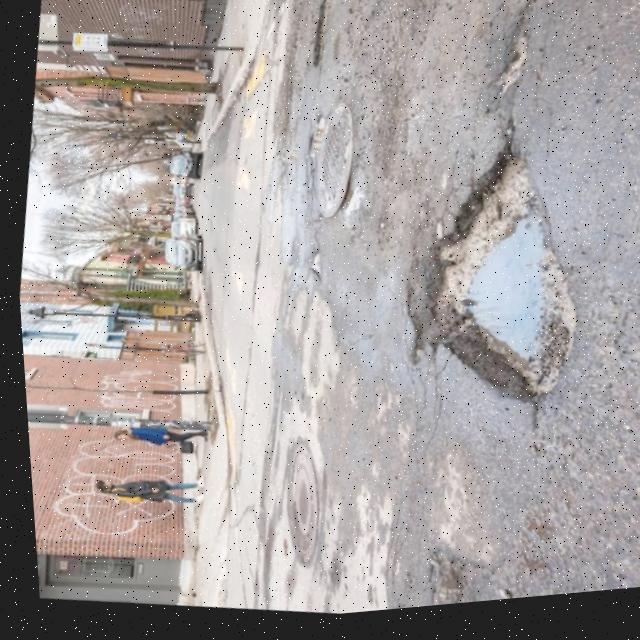Pothole: (358, 141, 600, 416), (281, 97, 379, 223), (473, 33, 543, 106), (299, 0, 352, 84), (402, 553, 467, 614)
